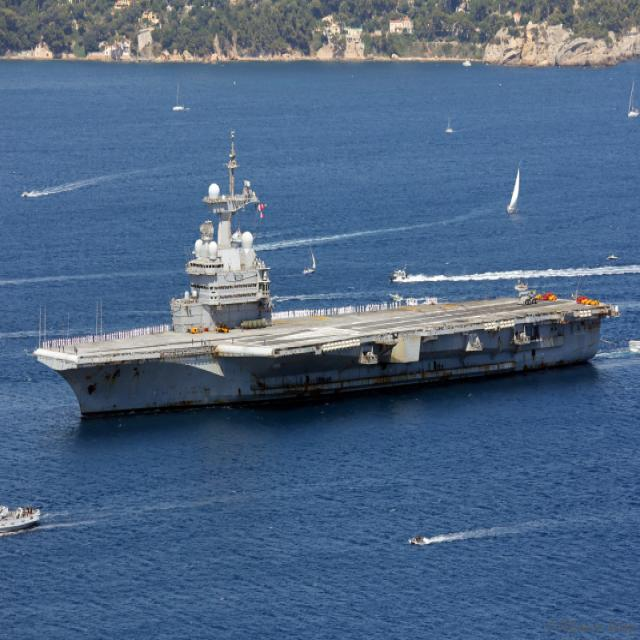Portanaves: (31, 118, 620, 430)
